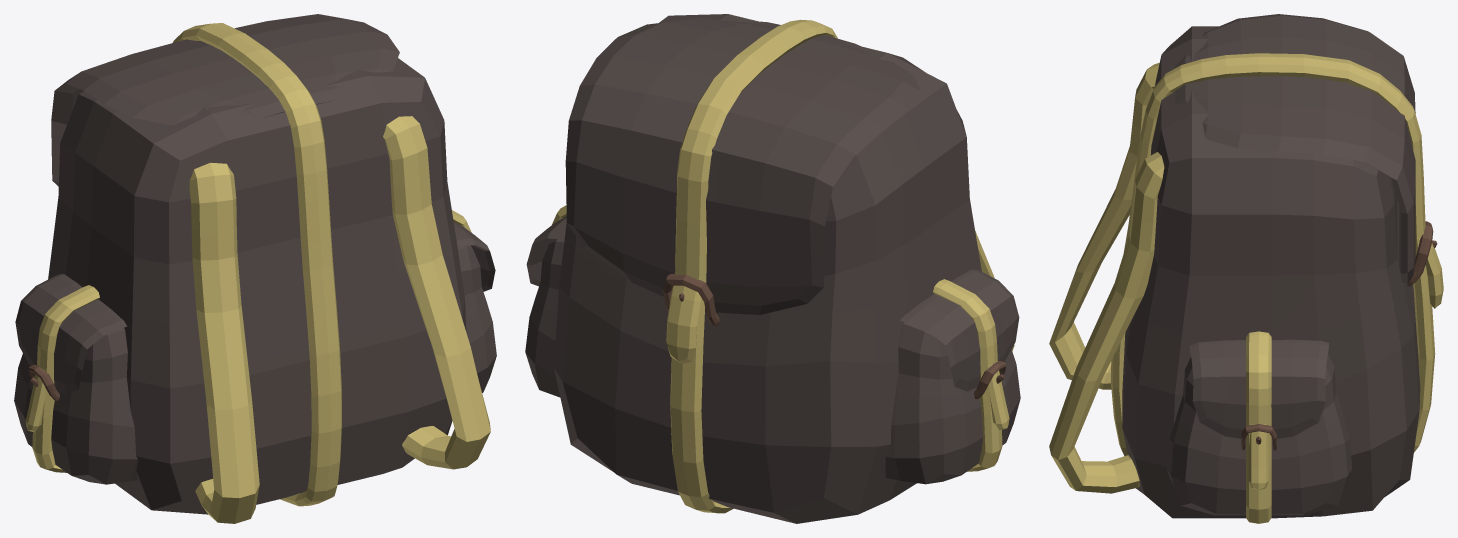
The model's file is SM_Backpack.fbx.
3 renders of one model, left to right at view 1: azimuth 30°, elevation 25°; view 2: azimuth 150°, elevation 25°; view 3: azimuth 270°, elevation 25°, orthographic. The views are drawn at different scales.
Visible parts, largest first — view 1: SM_Backpack; view 2: SM_Backpack; view 3: SM_Backpack.
Boxes of the visible parts, x1,y1,x2,y2 form: SM_Backpack: (14,14,496,523); SM_Backpack: (525,14,1020,523); SM_Backpack: (1049,14,1443,523).
Bounding box in the file's own units: 107 × 95.06 × 80.37.
